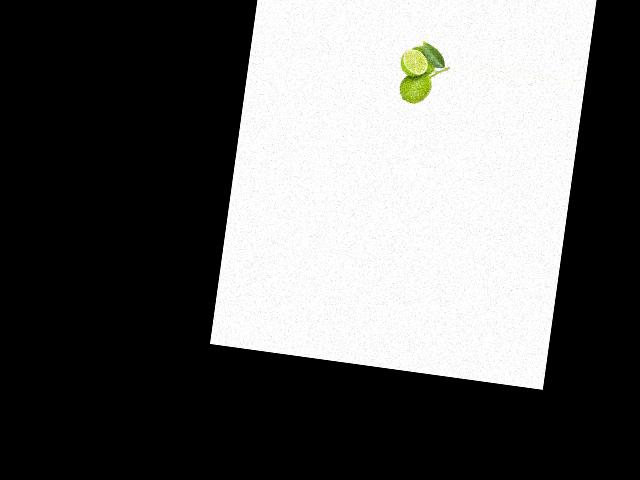lemon: (407, 42, 441, 74)
